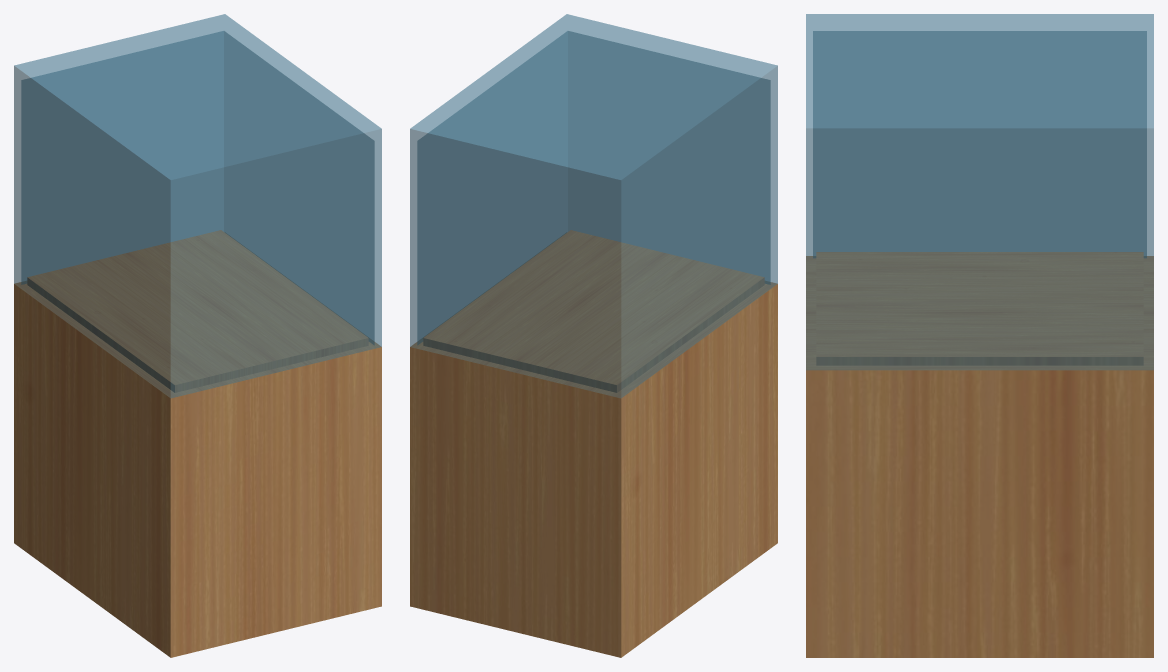
File: GLASSBOX.glb
3 views of the same model, side by side, from view 1: azimuth 30°, elevation 25°; view 2: azimuth 150°, elevation 25°; view 3: azimuth 270°, elevation 25° (orthographic). The views are drawn at different scales.
Parts seen in each view (by area): view 1: Cube.021, Cube.022; view 2: Cube.021, Cube.022; view 3: Cube.021, Cube.022.
Part boxes in pixels (<box>): Cube.021: <box>14,230,381,657</box>; Cube.022: <box>14,14,381,398</box>; Cube.021: <box>410,230,777,657</box>; Cube.022: <box>410,14,777,398</box>; Cube.021: <box>806,252,1153,657</box>; Cube.022: <box>806,14,1153,370</box>.
Size of the model in its own units: 0.3655 by 0.79 by 0.4701.
2 materials, 2 textured.
